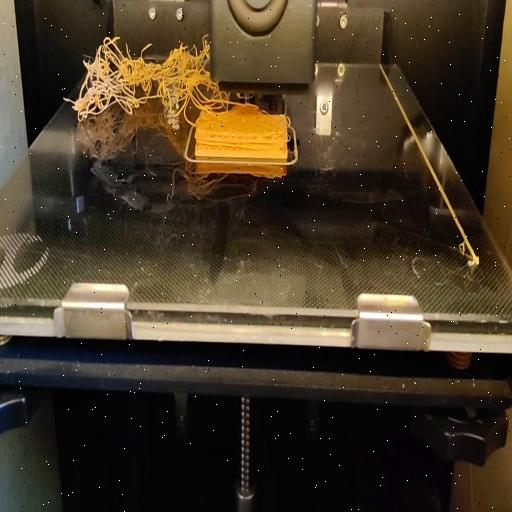spaghetti: (64, 30, 212, 128), (212, 91, 251, 127)
